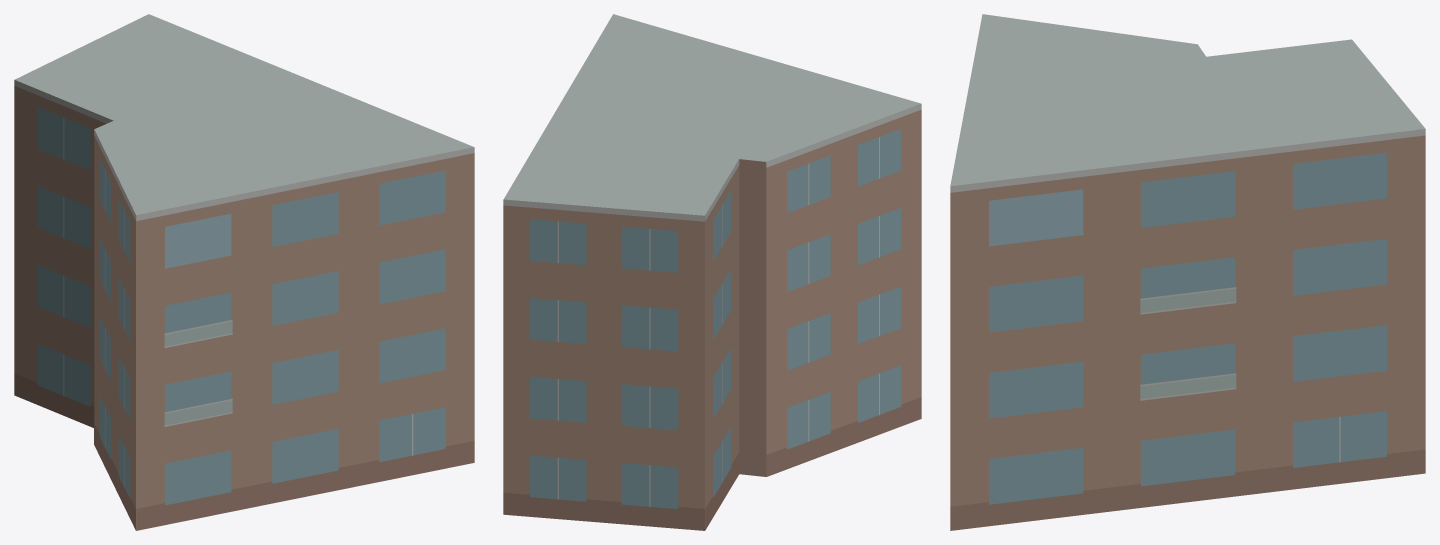
File: survey-upis-32589571.glb
3 views of the same model, side by side, from view 1: azimuth 30°, elevation 25°; view 2: azimuth 150°, elevation 25°; view 3: azimuth 270°, elevation 25° (orthographic). The views are drawn at different scales.
Visible parts, largest first — view 1: survey-upis-32589571.tmp; view 2: survey-upis-32589571.tmp; view 3: survey-upis-32589571.tmp.
Boxes of the visible parts, bbox=[...] form: survey-upis-32589571.tmp: bbox=[14, 14, 474, 530]; survey-upis-32589571.tmp: bbox=[503, 14, 921, 530]; survey-upis-32589571.tmp: bbox=[950, 14, 1425, 530].
Size of the model in its own units: 13.96 by 13 by 16.28.
